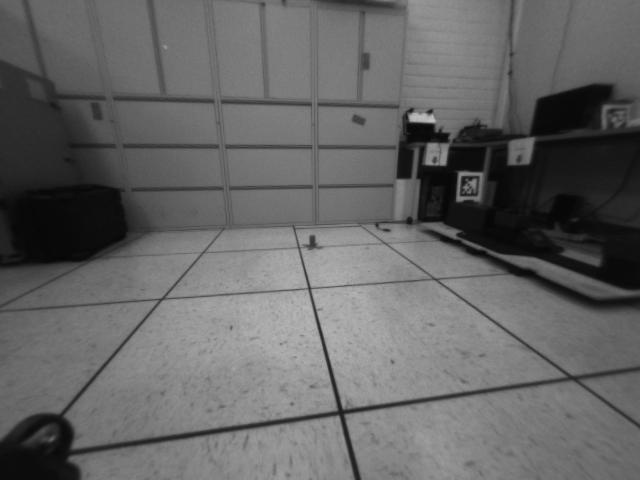X: (302, 234, 324, 250)
